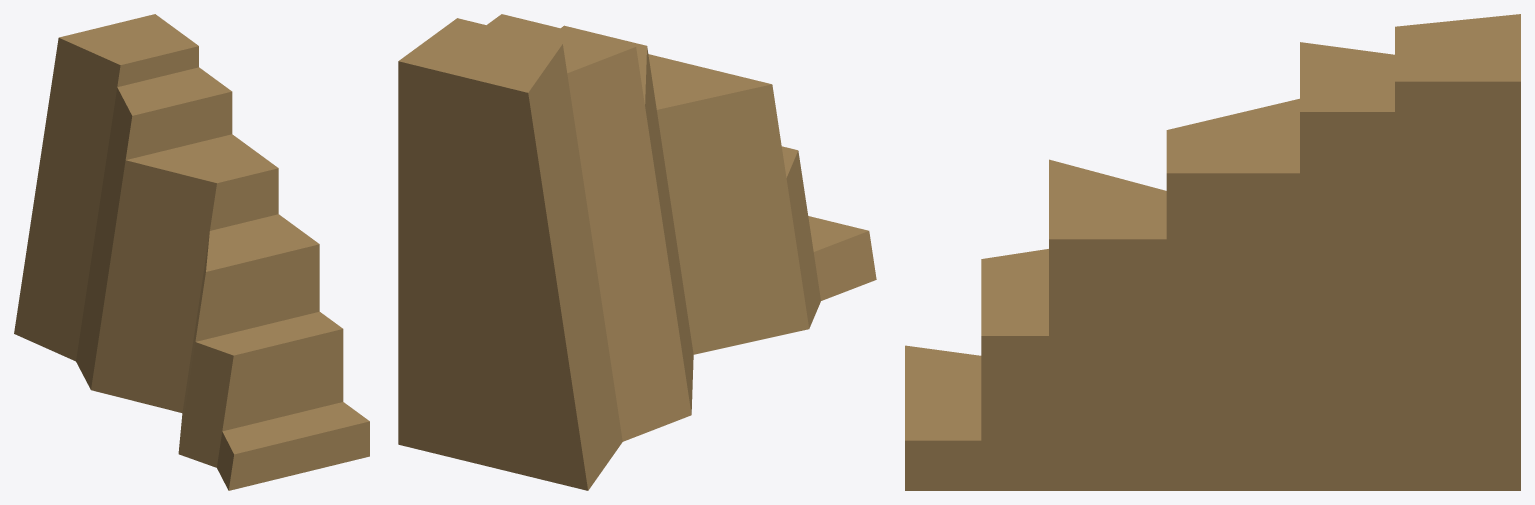
Rendered from Brown_Cliff_End_01.fbx.
3 renders of one model, left to right at view 1: azimuth 30°, elevation 25°; view 2: azimuth 150°, elevation 25°; view 3: azimuth 270°, elevation 25°, orthographic. The views are drawn at different scales.
Visible parts, largest first — view 1: Mesh1_Brown_Cliff_End Model; view 2: Mesh1_Brown_Cliff_End Model; view 3: Mesh1_Brown_Cliff_End Model.
Part boxes in pixels (x1,y1,x2,y2): Mesh1_Brown_Cliff_End Model: (14,14,369,490); Mesh1_Brown_Cliff_End Model: (398,14,876,490); Mesh1_Brown_Cliff_End Model: (905,14,1520,490).
Bounding box in the file's own units: 1.14 × 2.2 × 3.
